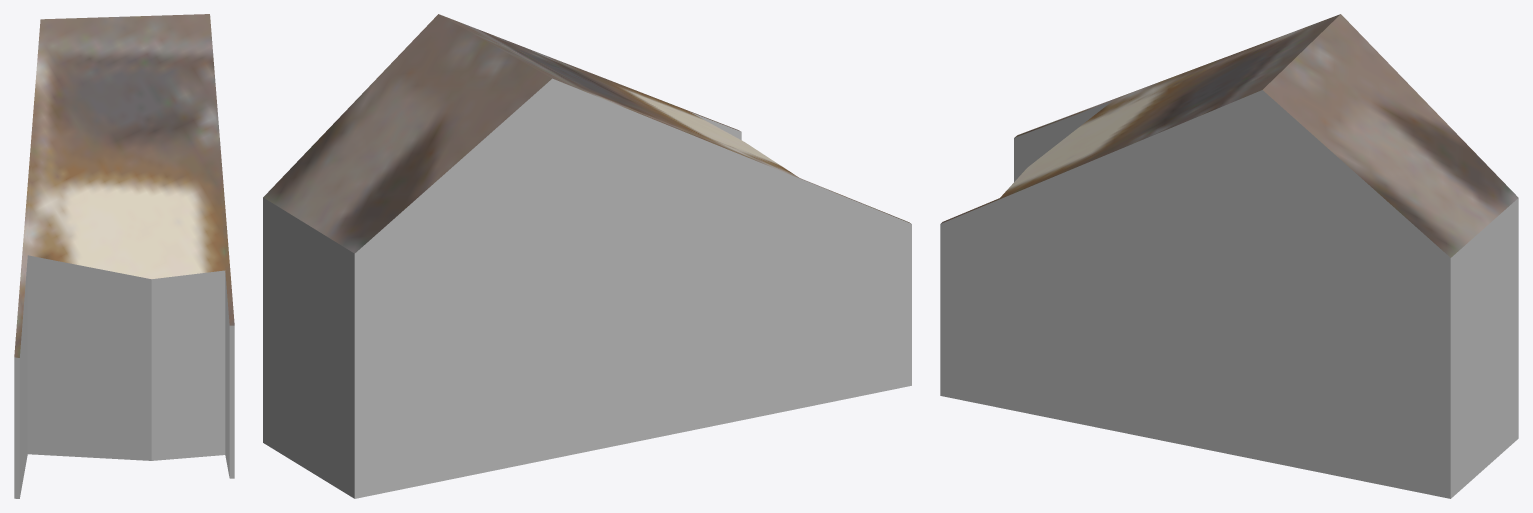
The model's file is DEBW_0010007TvlP.gltf.
The picture shows the model from 3 angles, left to right: view 1: azimuth 30°, elevation 25°; view 2: azimuth 150°, elevation 25°; view 3: azimuth 270°, elevation 25°; orthographic projection. The views are drawn at different scales.
Parts seen in each view (by area): view 1: Z_UP; view 2: Z_UP; view 3: Z_UP.
Part boxes in pixels (bbox=[...]): Z_UP: bbox=[14, 14, 234, 498]; Z_UP: bbox=[263, 14, 911, 498]; Z_UP: bbox=[940, 14, 1518, 498].
Size of the model in its own units: 13.36 by 11.34 by 15.93.
2 materials, 1 textured.
